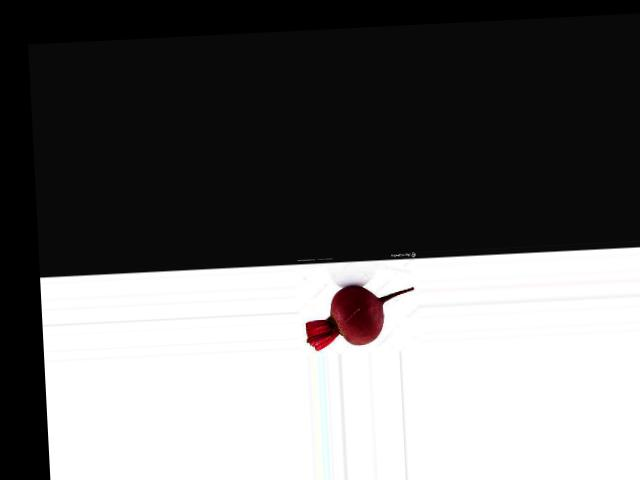beet: (303, 282, 416, 350)
